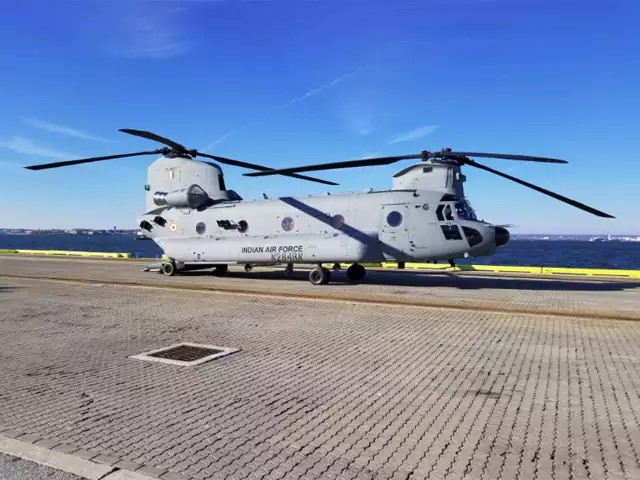chinook: (125, 138, 524, 291)
